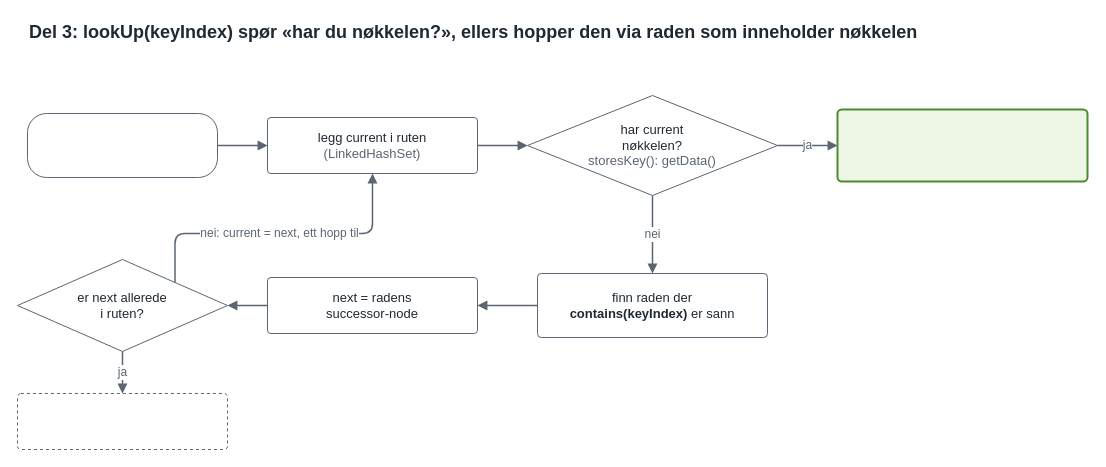
Image size: 1106x467. Some labels were removed from this diagram. The box of each missing label's shape, as (x1, y1, x2, y2) in pixels:
IllegalStateException sikkerhetsnett, skjer aldri: (16, 392, 228, 450)
lookUp(keyIndex) current = noden med lavest indeks: (26, 112, 218, 178)
returner LookUpResponse rute, navn, indeks hop count = noder i ruten: (836, 108, 1088, 182)
